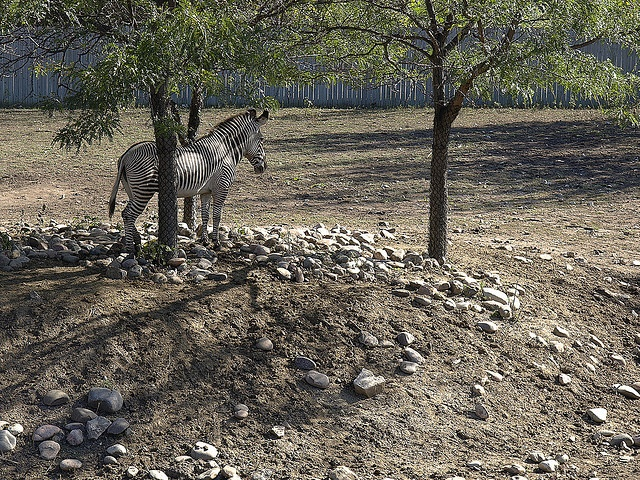zebra: (110, 109, 269, 253)
